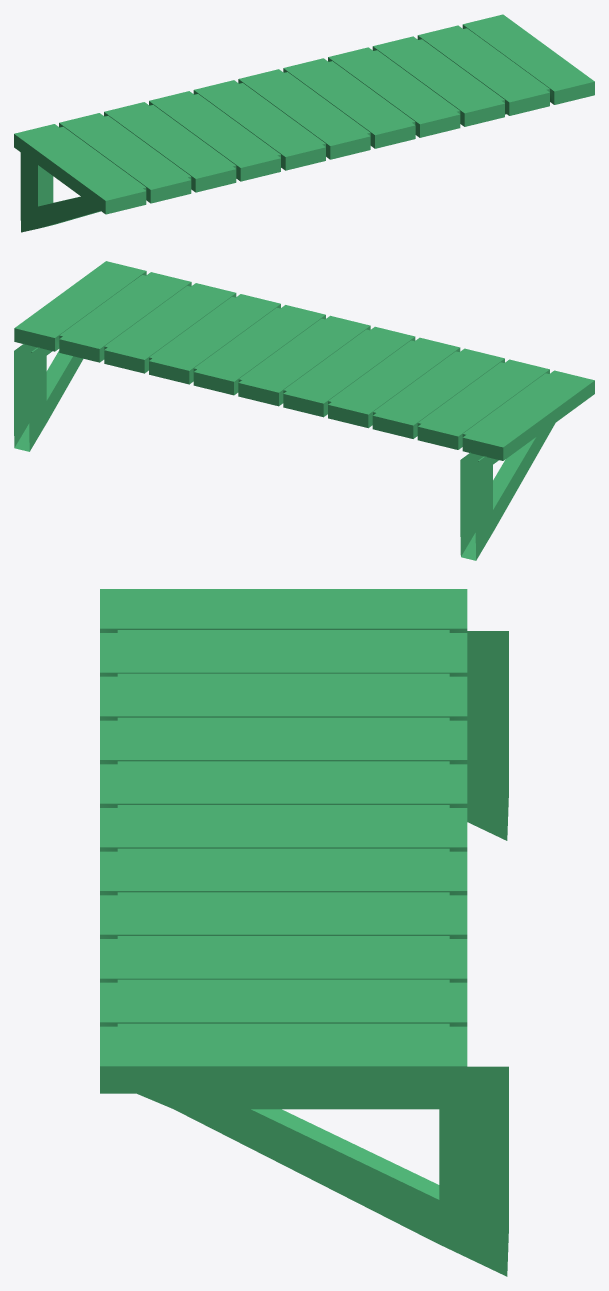
Rendered from wall_plank_01.fbx.
3 renders of one model, top to bottom at view 1: azimuth 30°, elevation 25°; view 2: azimuth 150°, elevation 25°; view 3: azimuth 270°, elevation 25°, orthographic. The views are drawn at different scales.
Visible parts, largest first — view 1: pasted__pCube83; view 2: pasted__pCube83; view 3: pasted__pCube83.
Part boxes in pixels (left/top/right/bottom): pasted__pCube83: left=14, top=14, right=594, bottom=232; pasted__pCube83: left=14, top=261, right=594, bottom=560; pasted__pCube83: left=100, top=589, right=508, bottom=1276.
Size of the model in its own units: 1.29 by 0.2775 by 0.4661.
